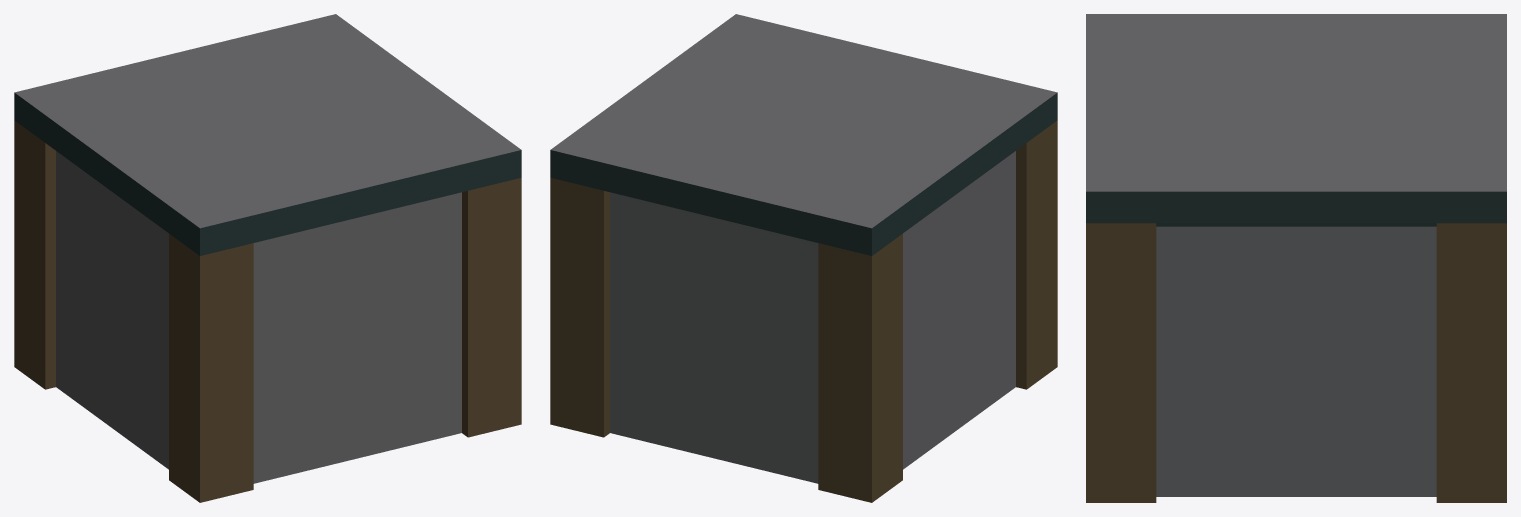
File: Roof_Flat_Green_01.obj
The picture shows the model from 3 angles, left to right: view 1: azimuth 30°, elevation 25°; view 2: azimuth 150°, elevation 25°; view 3: azimuth 270°, elevation 25°; orthographic projection. The views are drawn at different scales.
Visible parts, largest first — view 1: Mesh1_Roof_Slant_Green_Model.001, Mesh1_Roof_Slant_Green_Model.000_Mesh1_Roof_Slant_Green_Model.00; view 2: Mesh1_Roof_Slant_Green_Model.001, Mesh1_Roof_Slant_Green_Model.000_Mesh1_Roof_Slant_Green_Model.00; view 3: Mesh1_Roof_Slant_Green_Model.000_Mesh1_Roof_Slant_Green_Model.00, Mesh1_Roof_Slant_Green_Model.001.
Boxes of the visible parts, bbox=[...] form: Mesh1_Roof_Slant_Green_Model.001: bbox=[14, 53, 360, 502]; Mesh1_Roof_Slant_Green_Model.000_Mesh1_Roof_Slant_Green_Model.00: bbox=[175, 14, 521, 458]; Mesh1_Roof_Slant_Green_Model.001: bbox=[711, 53, 1057, 502]; Mesh1_Roof_Slant_Green_Model.000_Mesh1_Roof_Slant_Green_Model.00: bbox=[550, 14, 896, 458]; Mesh1_Roof_Slant_Green_Model.000_Mesh1_Roof_Slant_Green_Model.00: bbox=[1086, 103, 1506, 502]; Mesh1_Roof_Slant_Green_Model.001: bbox=[1086, 14, 1506, 102].
Bounding box in the file's own units: 3 × 2.45 × 3.
